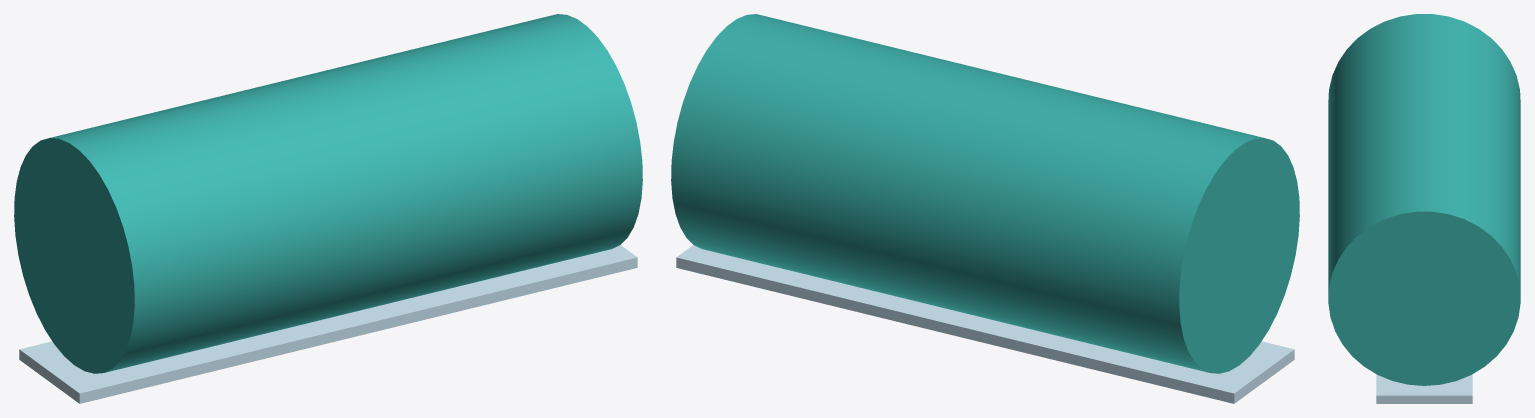
Rendered from REAR (1).glb.
The picture shows the model from 3 angles, left to right: view 1: azimuth 30°, elevation 25°; view 2: azimuth 150°, elevation 25°; view 3: azimuth 270°, elevation 25°; orthographic projection. The views are drawn at different scales.
Parts seen in each view (by area): view 1: 68914ac025b2d56622421d3f, 68914ac025b2d56622421d3f.001; view 2: 68914ac025b2d56622421d3f, 68914ac025b2d56622421d3f.001; view 3: 68914ac025b2d56622421d3f, 68914ac025b2d56622421d3f.001.
Part boxes in pixels (left/top/right/bottom): 68914ac025b2d56622421d3f: left=14, top=14, right=642, bottom=373; 68914ac025b2d56622421d3f.001: left=19, top=245, right=637, bottom=403; 68914ac025b2d56622421d3f: left=671, top=14, right=1299, bottom=373; 68914ac025b2d56622421d3f.001: left=676, top=245, right=1294, bottom=403; 68914ac025b2d56622421d3f: left=1328, top=14, right=1520, bottom=385; 68914ac025b2d56622421d3f.001: left=1376, top=374, right=1472, bottom=403.
Size of the model in its own units: 11.2 by 4.39 by 4.2.
